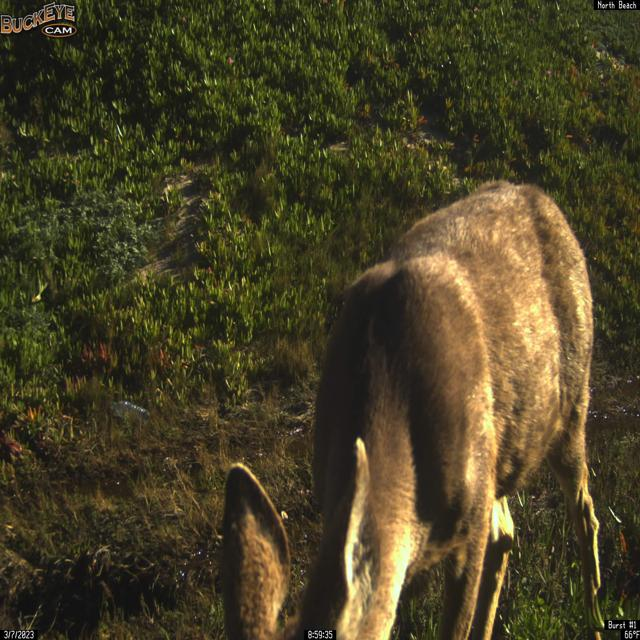deer: (219, 178, 605, 640)
